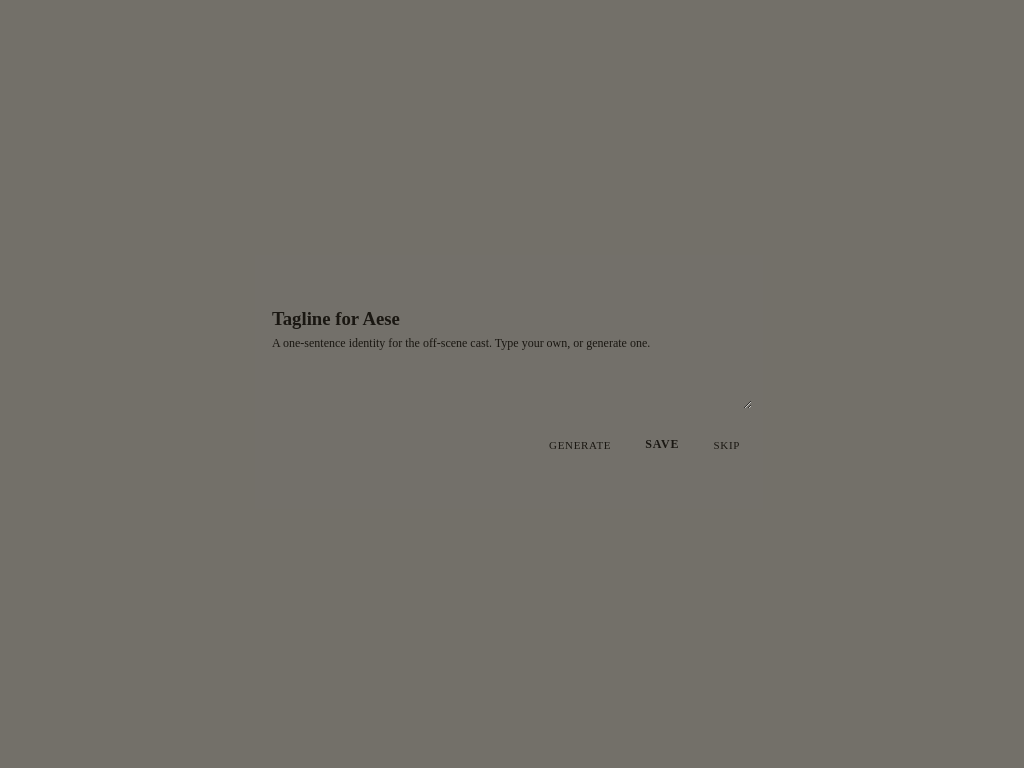
it: Generate fills the field from the endpoint
Click the button "Generate". click: click(580, 444)
box: [537,429,623,460]
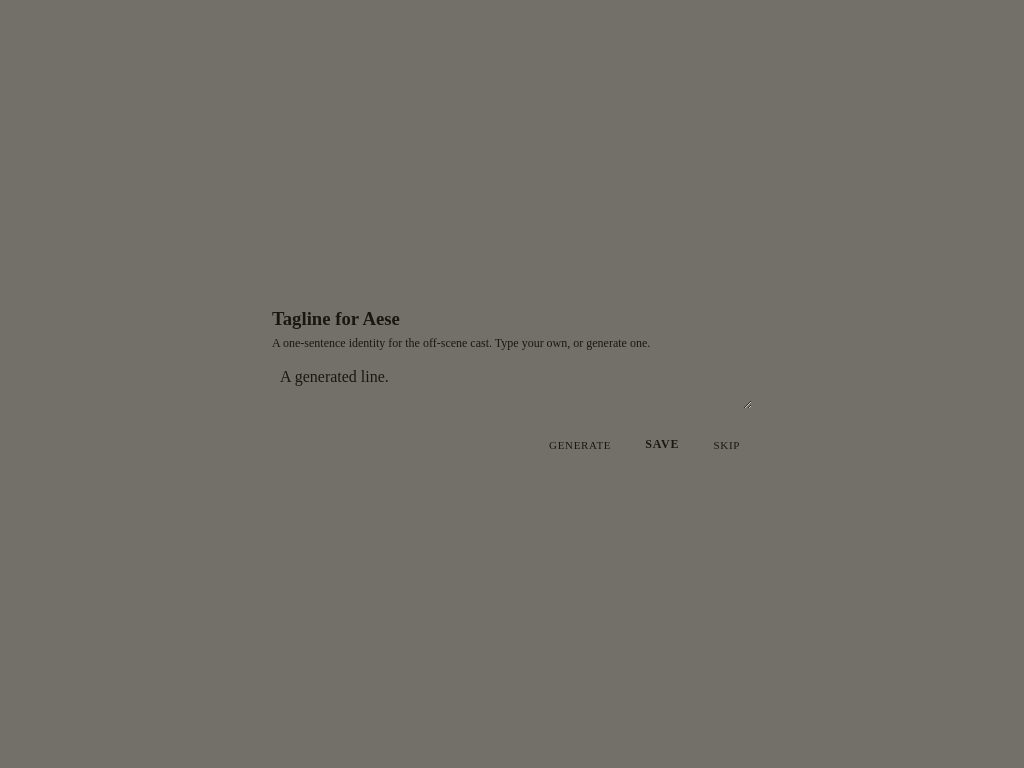
Result: the text box showing "A generated line." is shown at [272,363,752,409]
